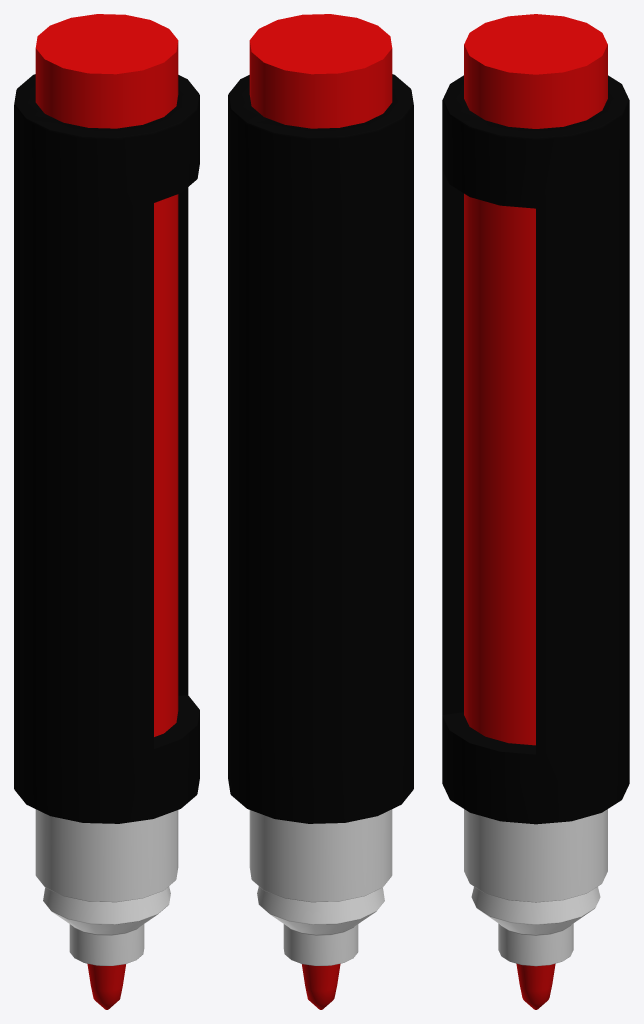
The model's file is Pen.fbx.
3 views of the same model, side by side, from view 1: azimuth 30°, elevation 25°; view 2: azimuth 150°, elevation 25°; view 3: azimuth 270°, elevation 25° (orthographic).
Visible parts, largest first — view 1: pCylinder1, polySurface1, polySurface2; view 2: pCylinder1, polySurface2, polySurface1; view 3: pCylinder1, polySurface1, polySurface2.
Part boxes in pixels (box(x1,y1,x2,y2)): pCylinder1: box(14, 74, 199, 823); polySurface1: box(35, 14, 178, 736); polySurface2: box(35, 809, 178, 1009); pCylinder1: box(228, 74, 413, 823); polySurface2: box(249, 809, 392, 1009); polySurface1: box(249, 14, 392, 128); pCylinder1: box(442, 75, 629, 824); polySurface1: box(464, 14, 607, 745); polySurface2: box(464, 809, 607, 1009).
Bounding box in the file's own units: 4.75 × 26.97 × 4.75.
